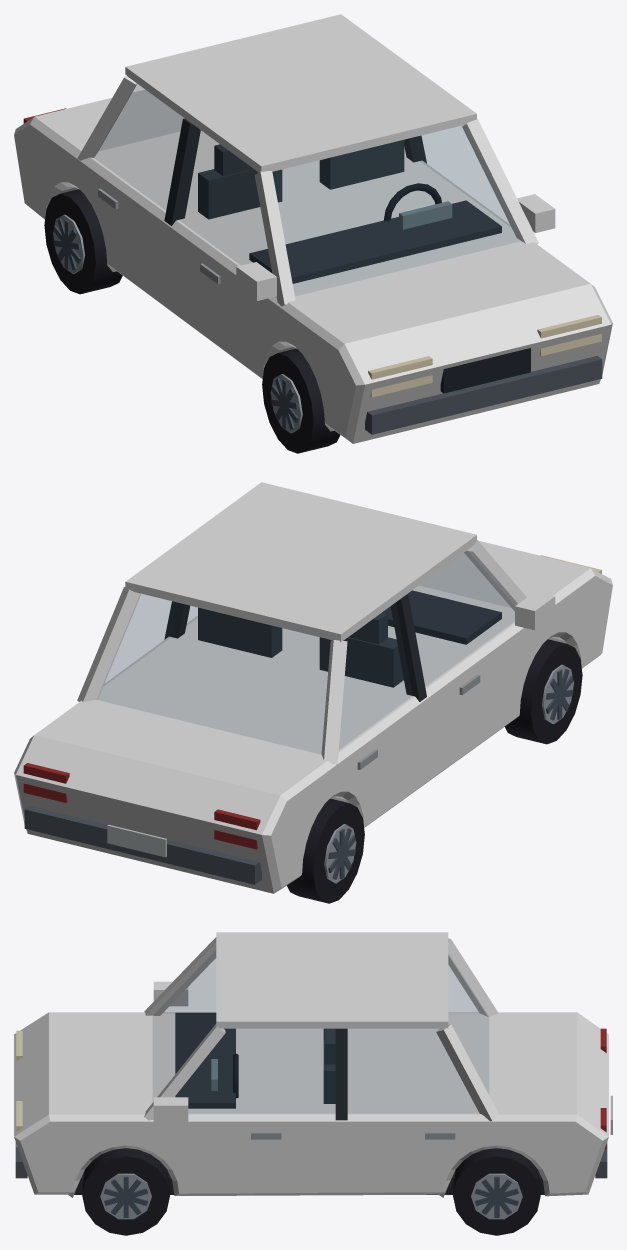
3 views of the same model, one above another, from view 1: azimuth 30°, elevation 25°; view 2: azimuth 150°, elevation 25°; view 3: azimuth 270°, elevation 25° (orthographic). The views are drawn at different scales.
Visible parts, largest first — view 1: body, windows, wheel-mesh (×2), steering-wheel; view 2: body, windows, wheel-mesh (×2); view 3: body, windows, wheel-mesh (×2).
Boxes of the visible parts, bbox=[...] form: body: bbox=[14, 14, 612, 443]; windows: bbox=[95, 84, 520, 295]; wheel-mesh (×2): bbox=[44, 189, 340, 453]; steering-wheel: bbox=[384, 183, 441, 221]; body: bbox=[14, 482, 612, 893]; windows: bbox=[97, 550, 514, 753]; wheel-mesh (×2): bbox=[287, 639, 582, 903]; body: bbox=[14, 932, 612, 1197]; windows: bbox=[153, 951, 488, 1112]; wheel-mesh (×2): bbox=[82, 1148, 540, 1235].
Bounding box in the file's own units: 1.94 × 1.48 × 3.96.
